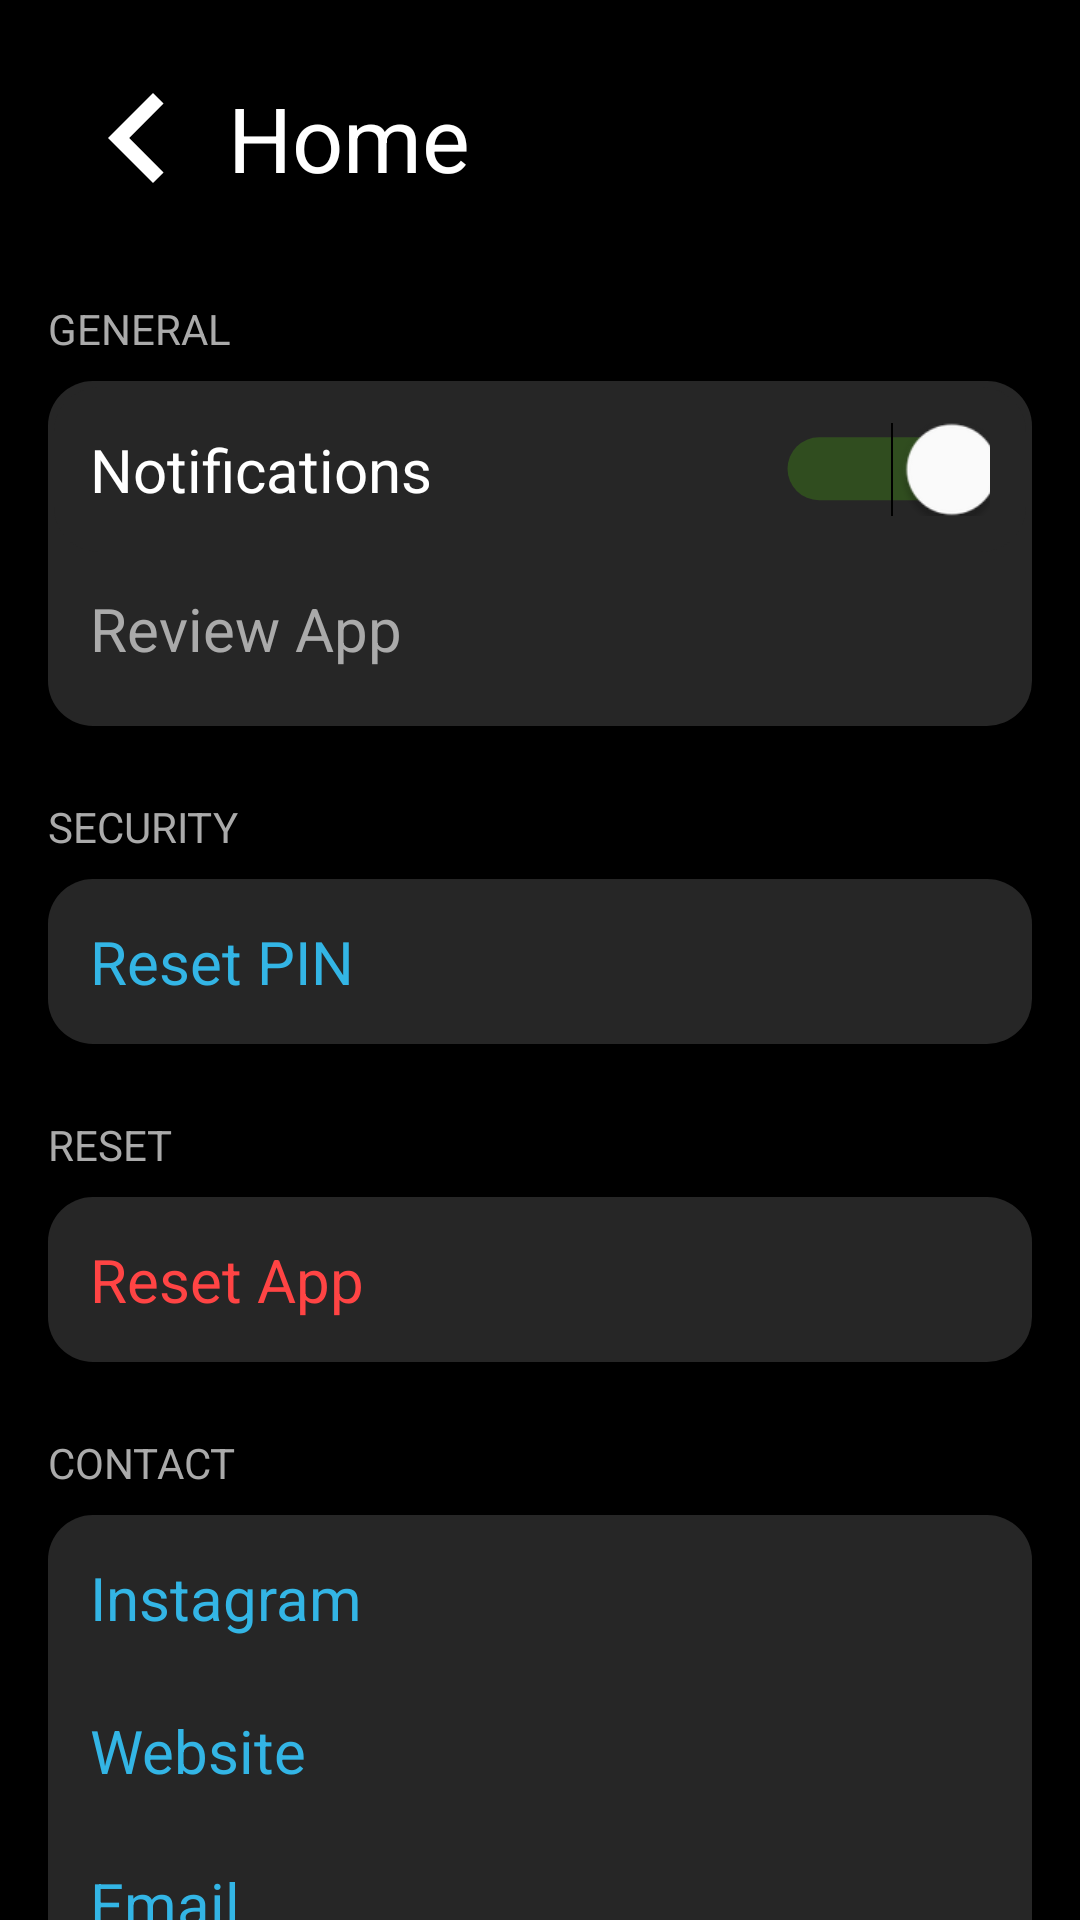

Icon click points for this 1080 x 1920 phone screenshot, format [x,y]:
Back: [136,138]
